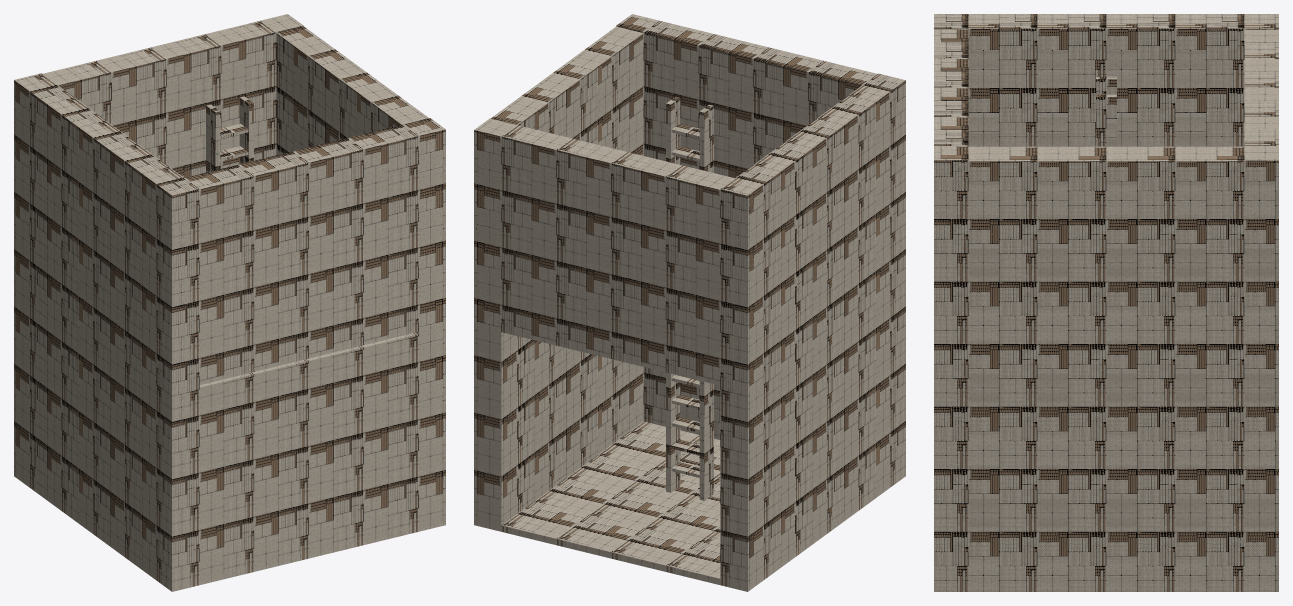
The model's file is dungeon_entry_ladder.glb.
3 views of the same model, side by side, from view 1: azimuth 30°, elevation 25°; view 2: azimuth 150°, elevation 25°; view 3: azimuth 270°, elevation 25° (orthographic). The views are drawn at different scales.
Parts seen in each view (by area): view 1: dungeon_entry_ladder; view 2: dungeon_entry_ladder; view 3: dungeon_entry_ladder.
Part boxes in pixels (left/top/right/bottom): dungeon_entry_ladder: left=14, top=14, right=445, bottom=591; dungeon_entry_ladder: left=474, top=14, right=905, bottom=591; dungeon_entry_ladder: left=934, top=14, right=1278, bottom=591.
Bounding box in the file's own units: 5 × 6.91 × 5.
1 material, 1 textured.
